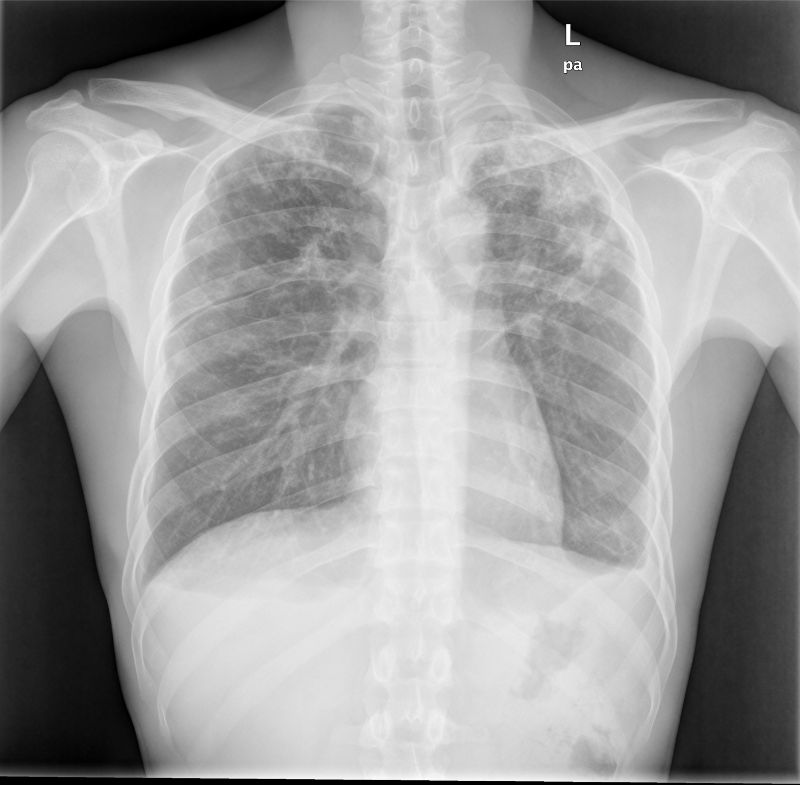Tuberculosis (TB): (247, 126, 358, 336), (507, 144, 608, 321)
